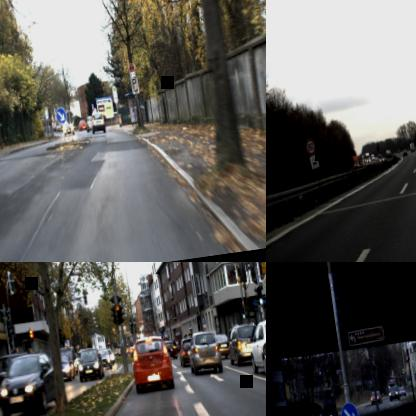go straight: (264, 289, 266, 303)
keep right: (338, 400, 360, 416), (54, 106, 67, 124)
priority road: (260, 271, 266, 290)
speed limit 80: (304, 136, 316, 157)
